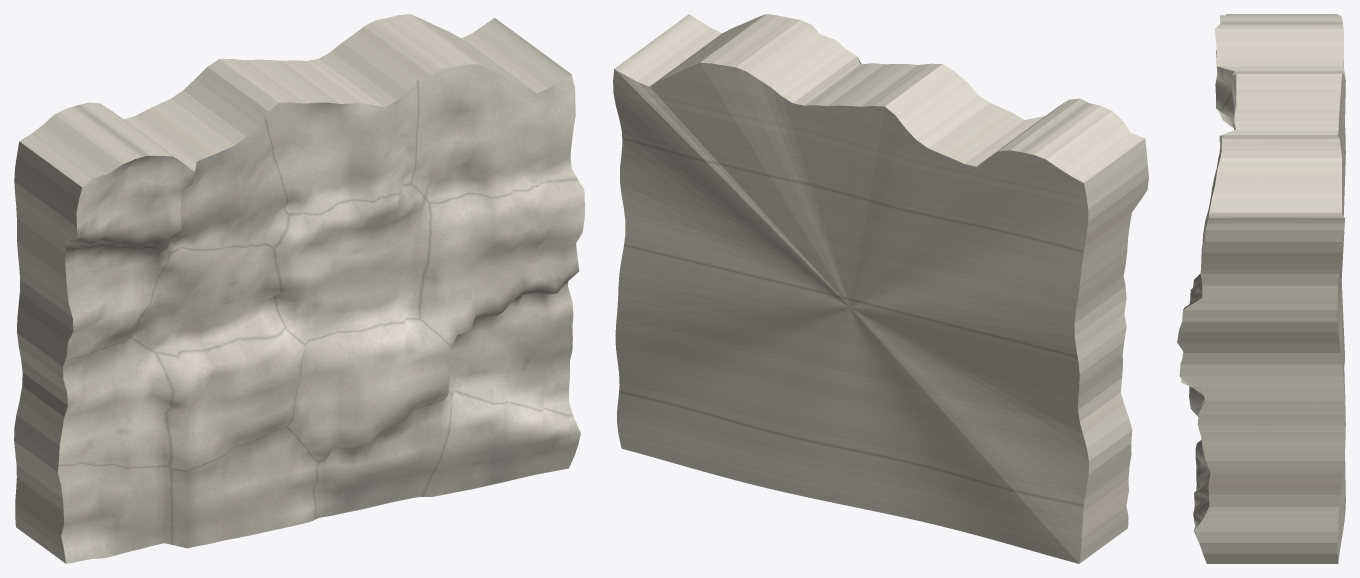
Rendered from rock-lod2.glb.
3 renders of one model, left to right at view 1: azimuth 30°, elevation 25°; view 2: azimuth 150°, elevation 25°; view 3: azimuth 270°, elevation 25°, orthographic. The views are drawn at different scales.
Visible parts, largest first — view 1: Rock_LOD2; view 2: Rock_LOD2; view 3: Rock_LOD2.
Part boxes in pixels (x1,y1,x2,y2): Rock_LOD2: [14, 14, 584, 563]; Rock_LOD2: [613, 14, 1148, 563]; Rock_LOD2: [1177, 14, 1345, 563].
Bounding box in the file's own units: 12.06 × 10 × 4.09.
1 material, 1 textured.
